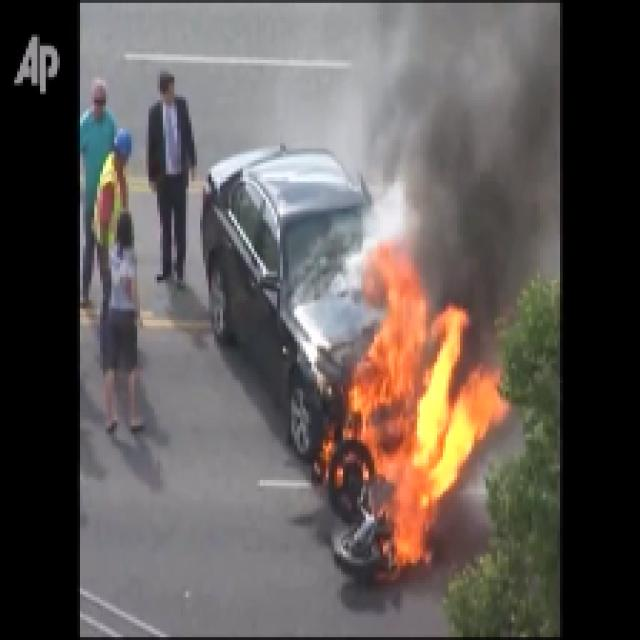fire: (350, 312, 480, 563)
smoke: (406, 14, 560, 305)
